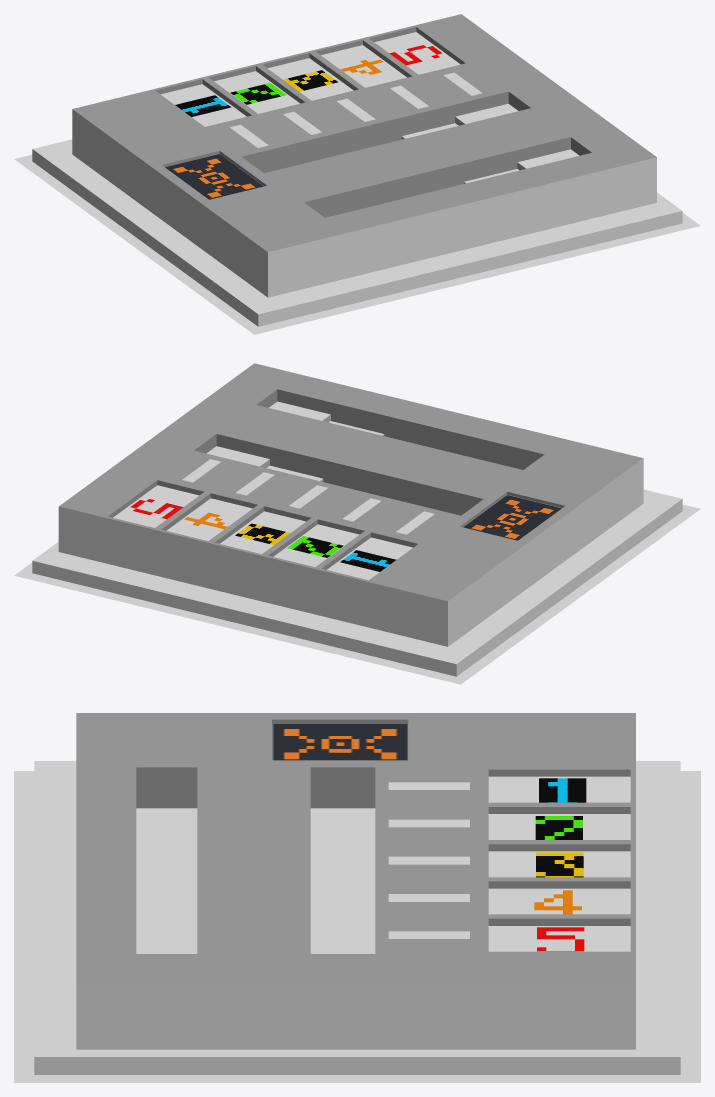
Rendered from AnomalyPalancaEnergiaDiagonal.fbx.
3 views of the same model, one above another, from view 1: azimuth 30°, elevation 25°; view 2: azimuth 150°, elevation 25°; view 3: azimuth 270°, elevation 25° (orthographic). The views are drawn at different scales.
Visible parts, largest first — view 1: Cube.023; view 2: Cube.023; view 3: Cube.023.
Part boxes in pixels (bbox=[...]): Cube.023: bbox=[14, 14, 700, 334]; Cube.023: bbox=[14, 363, 700, 684]; Cube.023: bbox=[14, 713, 700, 1082].
Bounding box in the file's own units: 13.95 × 1.73 × 12.99.
